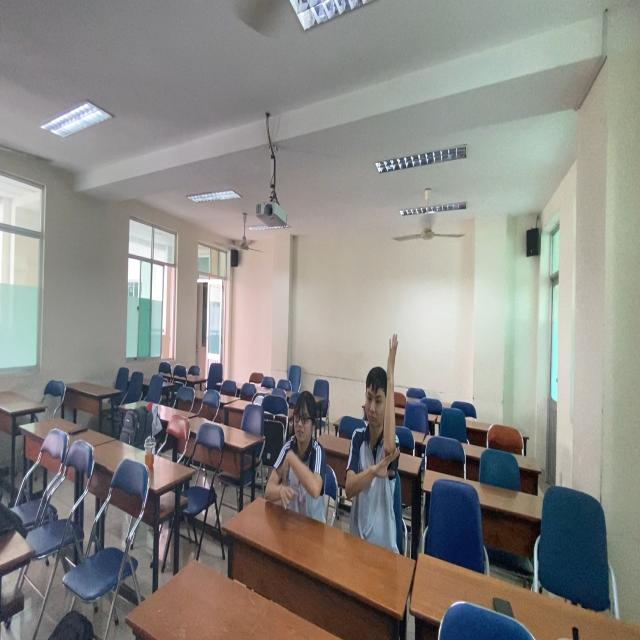raise_hand: (344, 325, 407, 552)
